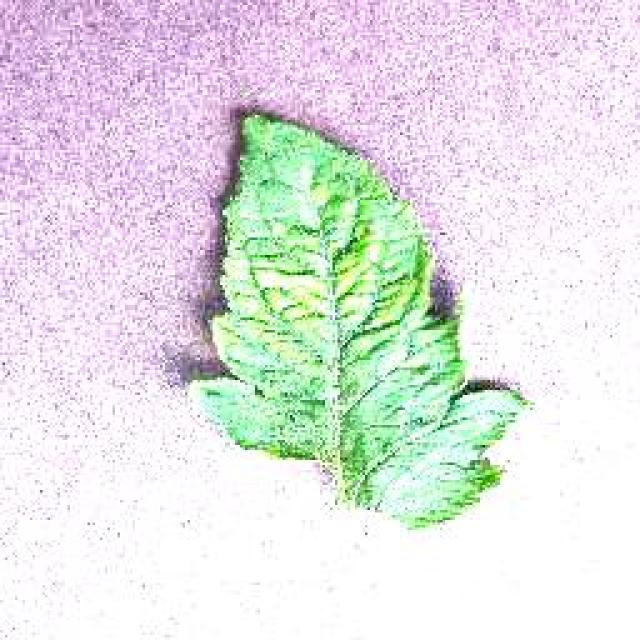Tomato___Tomato_mosaic_virus: (202, 115, 522, 522)
